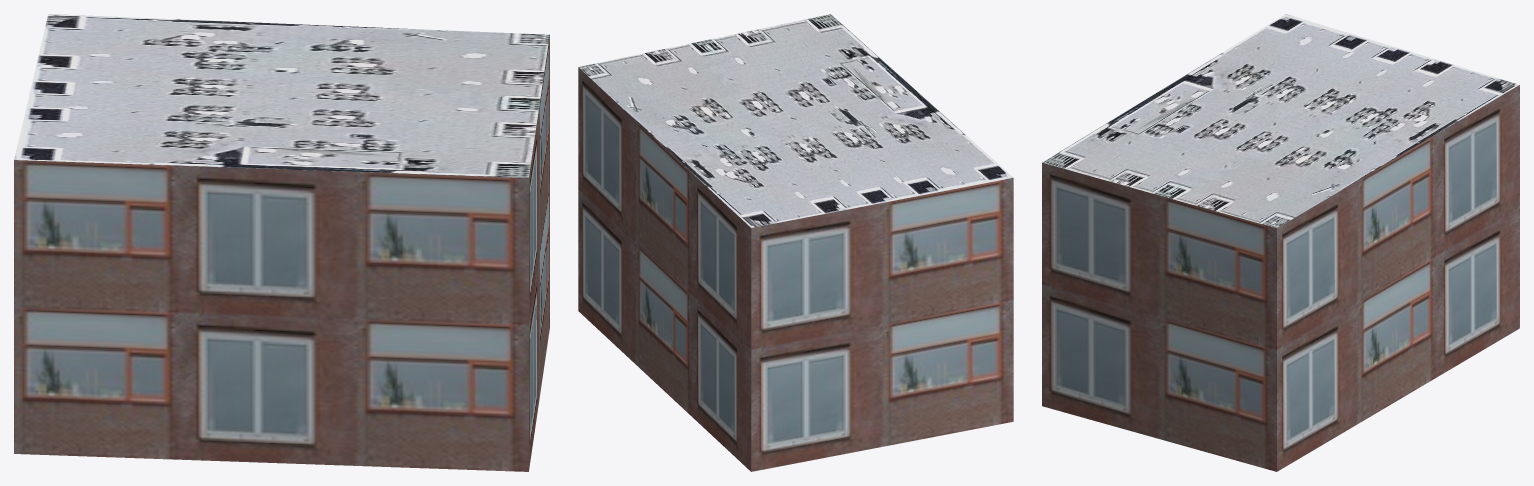
The model's file is ResTex__2444.fbx.
The picture shows the model from 3 angles, left to right: view 1: azimuth 30°, elevation 25°; view 2: azimuth 150°, elevation 25°; view 3: azimuth 270°, elevation 25°; orthographic projection. The views are drawn at different scales.
Parts seen in each view (by area): view 1: CityEngineMaterial_19_m, CityEngineMaterial_15_m; view 2: CityEngineMaterial_19_m, CityEngineMaterial_15_m; view 3: CityEngineMaterial_19_m, CityEngineMaterial_15_m.
Part boxes in pixels (bbox=[...]): CityEngineMaterial_19_m: bbox=[14, 35, 549, 471]; CityEngineMaterial_15_m: bbox=[14, 14, 549, 177]; CityEngineMaterial_19_m: bbox=[578, 67, 1013, 471]; CityEngineMaterial_15_m: bbox=[578, 14, 1013, 227]; CityEngineMaterial_19_m: bbox=[1042, 85, 1519, 471]; CityEngineMaterial_15_m: bbox=[1042, 14, 1519, 228].
Bounding box in the file's own units: 11.33 × 6 × 10.67.
2 materials, 2 textured.
